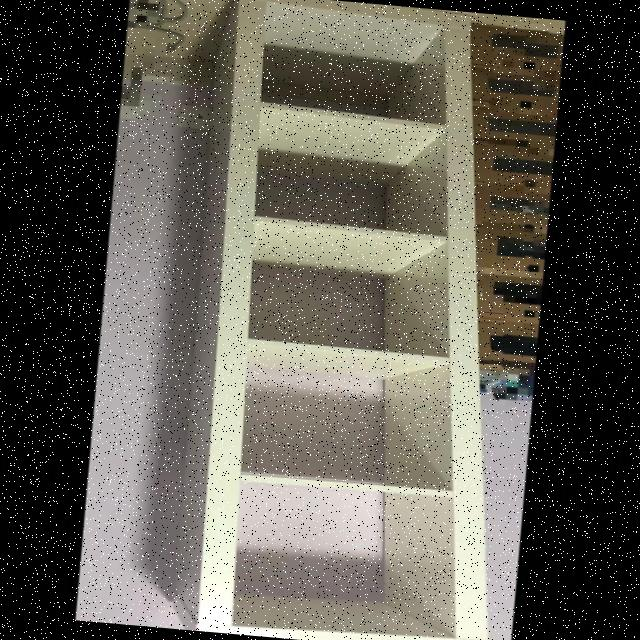Shelf: (148, 0, 546, 640)
